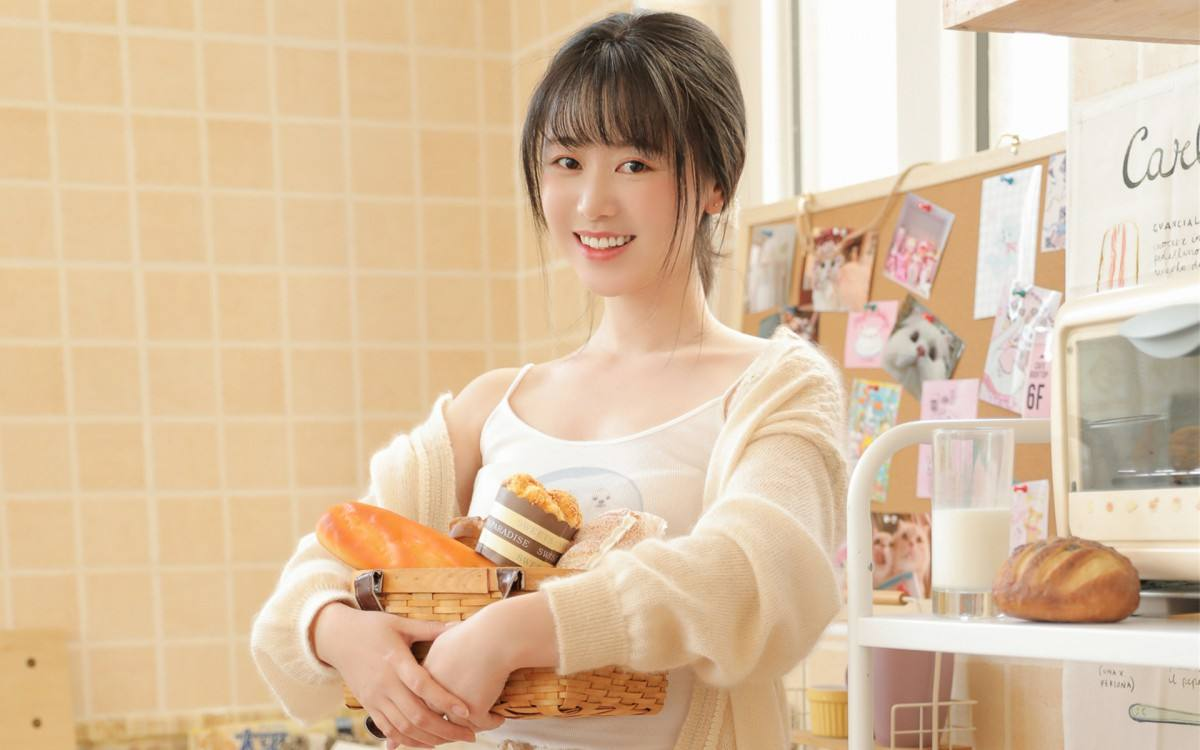person: (332, 6, 952, 582)
